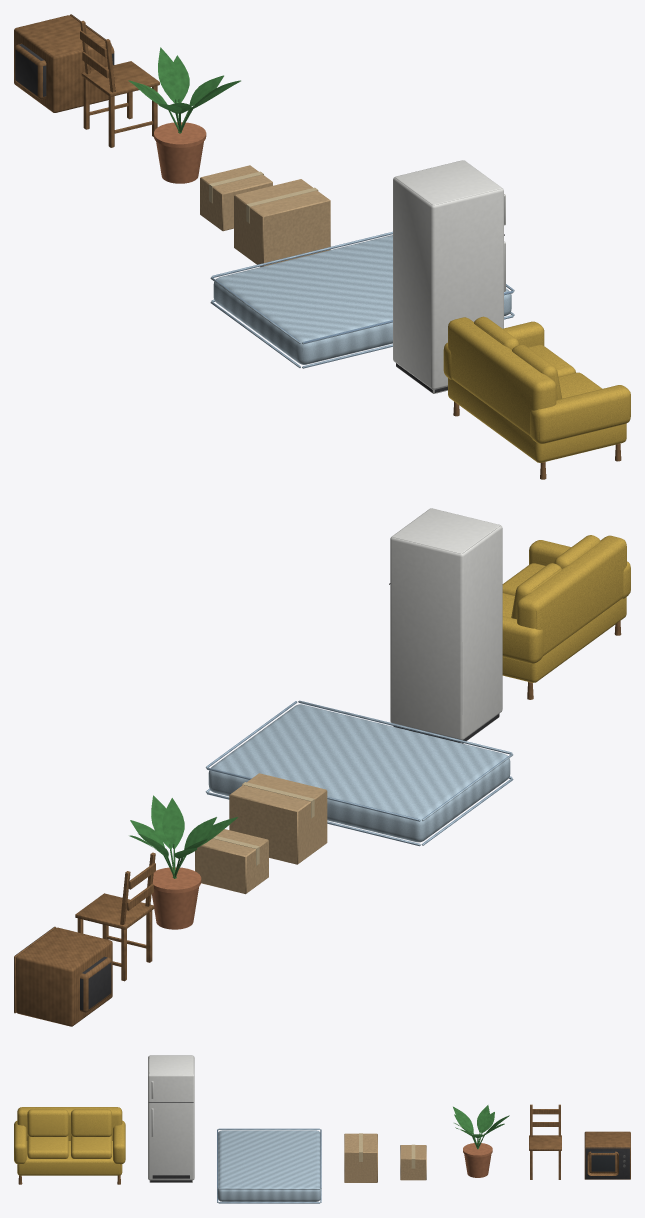
File: carga-mudanca.glb
The picture shows the model from 3 angles, top to bottom: view 1: azimuth 30°, elevation 25°; view 2: azimuth 150°, elevation 25°; view 3: azimuth 270°, elevation 25°; orthographic projection. The views are drawn at different scales.
Parts seen in each view (by area): view 1: SM_LevaTudo_Carga_2, SM_LevaTudo_Carga_1, SM_LevaTudo_Carga_3, SM_LevaTudo_Carga_4, SM_LevaTudo_Carga_8, SM_LevaTudo_Carga_6, SM_LevaTudo_Carga_7, SM_LevaTudo_Carga_5; view 2: SM_LevaTudo_Carga_3, SM_LevaTudo_Carga_2, SM_LevaTudo_Carga_1, SM_LevaTudo_Carga_8, SM_LevaTudo_Carga_4, SM_LevaTudo_Carga_6, SM_LevaTudo_Carga_5, SM_LevaTudo_Carga_7; view 3: SM_LevaTudo_Carga_3, SM_LevaTudo_Carga_1, SM_LevaTudo_Carga_2, SM_LevaTudo_Carga_8, SM_LevaTudo_Carga_6, SM_LevaTudo_Carga_4, SM_LevaTudo_Carga_7, SM_LevaTudo_Carga_5.
Part boxes in pixels (box(x1,y1,x2,y2)): SM_LevaTudo_Carga_2: box(393, 160, 505, 393); SM_LevaTudo_Carga_1: box(443, 316, 630, 479); SM_LevaTudo_Carga_3: box(210, 231, 514, 368); SM_LevaTudo_Carga_4: box(234, 179, 330, 266); SM_LevaTudo_Carga_8: box(14, 14, 114, 112); SM_LevaTudo_Carga_6: box(128, 47, 240, 183); SM_LevaTudo_Carga_7: box(80, 20, 159, 147); SM_LevaTudo_Carga_5: box(200, 165, 272, 231); SM_LevaTudo_Carga_3: box(205, 700, 513, 846); SM_LevaTudo_Carga_2: box(389, 508, 502, 743); SM_LevaTudo_Carga_1: box(502, 535, 630, 699); SM_LevaTudo_Carga_8: box(14, 926, 112, 1026); SM_LevaTudo_Carga_4: box(229, 773, 327, 864); SM_LevaTudo_Carga_6: box(129, 795, 237, 929); SM_LevaTudo_Carga_5: box(195, 829, 268, 894); SM_LevaTudo_Carga_7: box(75, 852, 155, 981); SM_LevaTudo_Carga_3: box(217, 1128, 321, 1203); SM_LevaTudo_Carga_1: box(14, 1107, 125, 1184); SM_LevaTudo_Carga_2: box(148, 1055, 194, 1182); SM_LevaTudo_Carga_8: box(584, 1131, 630, 1179); SM_LevaTudo_Carga_6: box(453, 1105, 509, 1177); SM_LevaTudo_Carga_4: box(344, 1133, 377, 1182); SM_LevaTudo_Carga_7: box(529, 1104, 561, 1179); SM_LevaTudo_Carga_5: box(400, 1144, 426, 1180).
Size of the model in its own units: 1.9 by 1.6 by 8.24.
Materials: 8 (8 with a texture image).
